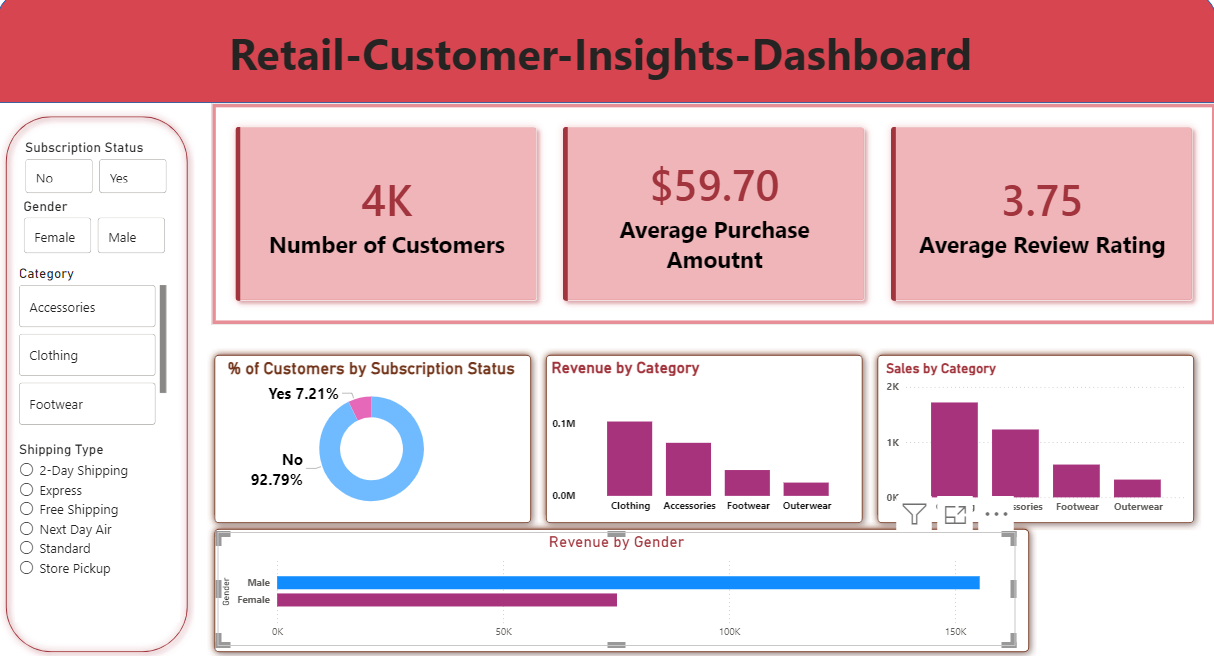

What the dashboard file says about the page in this screenshot:
{"tool":"powerbi","page":{"name":"Page 1","canvas":[1500,820],"ordinal":0},"visuals":[{"type":"cardVisual","fields":{"Data":["data_analytics customer_shopping_behavior.Number of Customers","data_analytics customer_shopping_behavior.Average Purchase Amoutnt","data_analytics customer_shopping_behavior.Average Review Rating"]},"box":[263.7,136.5,1235.6,272.9],"z":0},{"type":"shape","box":[0,0,1499.3,136.5],"z":1000},{"type":"textbox","box":[0,33.2,1484.5,90.4],"z":2000},{"type":"shape","box":[258.2,437.1,407.6,225],"z":3000},{"type":"donutChart","title":"% of  Customers by Subscription Status","fields":{"Category":["data_analytics customer_shopping_behavior.Subscription Status"],"Y":["Sum(data_analytics customer_shopping_behavior.customer_id)"]},"box":[271.1,450,378,199.2],"z":4000},{"type":"shape","box":[665.7,437.1,407.6,225],"z":5000},{"type":"shape","box":[1073.3,437.1,407.6,225],"z":6000},{"type":"clusteredColumnChart","title":"Revenue by Category","fields":{"Y":["Sum(data_analytics customer_shopping_behavior.Purchase Amount (USD))"],"Category":["data_analytics customer_shopping_behavior.Category"]},"box":[676.8,450,381.7,199.2],"z":7000},{"type":"clusteredColumnChart","title":"Sales by Category","fields":{"Y":["CountNonNull(data_analytics customer_shopping_behavior.customer_id)"],"Category":["data_analytics customer_shopping_behavior.Category"]},"box":[1088,451.8,379.9,199.2],"z":8000},{"type":"shape","box":[1.8,143.8,241.6,676.8],"z":9000},{"type":"advancedSlicerVisual","fields":{"Values":["data_analytics customer_shopping_behavior.Subscription Status"]},"box":[29.5,180.7,184.4,71.9],"z":10000},{"type":"advancedSlicerVisual","fields":{"Values":["data_analytics customer_shopping_behavior.Gender"]},"box":[27.7,252.6,184.4,73.8],"z":11000},{"type":"advancedSlicerVisual","fields":{"Values":["data_analytics customer_shopping_behavior.Category"]},"box":[22.1,335.6,191.8,202.9],"z":12000},{"type":"listSlicer","fields":{"Values":["data_analytics customer_shopping_behavior.Shipping Type"]},"box":[22.1,551.4,202.9,223.1],"z":13000},{"type":"shape","box":[258.2,651,1019.8,169.7],"z":14000},{"type":"clusteredBarChart","title":"Revenue by Gender","fields":{"Y":["Sum(data_analytics customer_shopping_behavior.Purchase Amount (USD))"],"Category":["data_analytics customer_shopping_behavior.Gender"]},"box":[271.1,663.9,981.1,140.2],"z":15000}]}

Visuals, with their boxes in screenshot pixels (x1, y1, x2, y2), scaled from the page's 1500x820 canvas onto the 1214x656 screenshot:
cardVisual - data_analytics customer_shopping_behavior.Number of Customers x data_analytics customer_shopping_behavior.Average Purchase Amoutnt: box(213, 109, 1213, 328)
shape: box(0, 0, 1213, 109)
textbox: box(0, 27, 1201, 99)
shape: box(209, 350, 539, 530)
"% of  Customers by Subscription Status" donutChart: box(219, 360, 525, 519)
shape: box(539, 350, 869, 530)
shape: box(869, 350, 1199, 530)
"Revenue by Category" clusteredColumnChart: box(548, 360, 857, 519)
"Sales by Category" clusteredColumnChart: box(881, 361, 1188, 521)
shape: box(1, 115, 197, 655)
advancedSlicerVisual - data_analytics customer_shopping_behavior.Subscription Status: box(24, 145, 173, 202)
advancedSlicerVisual - data_analytics customer_shopping_behavior.Gender: box(22, 202, 172, 261)
advancedSlicerVisual - data_analytics customer_shopping_behavior.Category: box(18, 268, 173, 431)
listSlicer - data_analytics customer_shopping_behavior.Shipping Type: box(18, 441, 182, 620)
shape: box(209, 521, 1034, 655)
"Revenue by Gender" clusteredBarChart: box(219, 531, 1013, 643)
